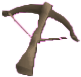crossbow: (1, 1, 81, 77)
